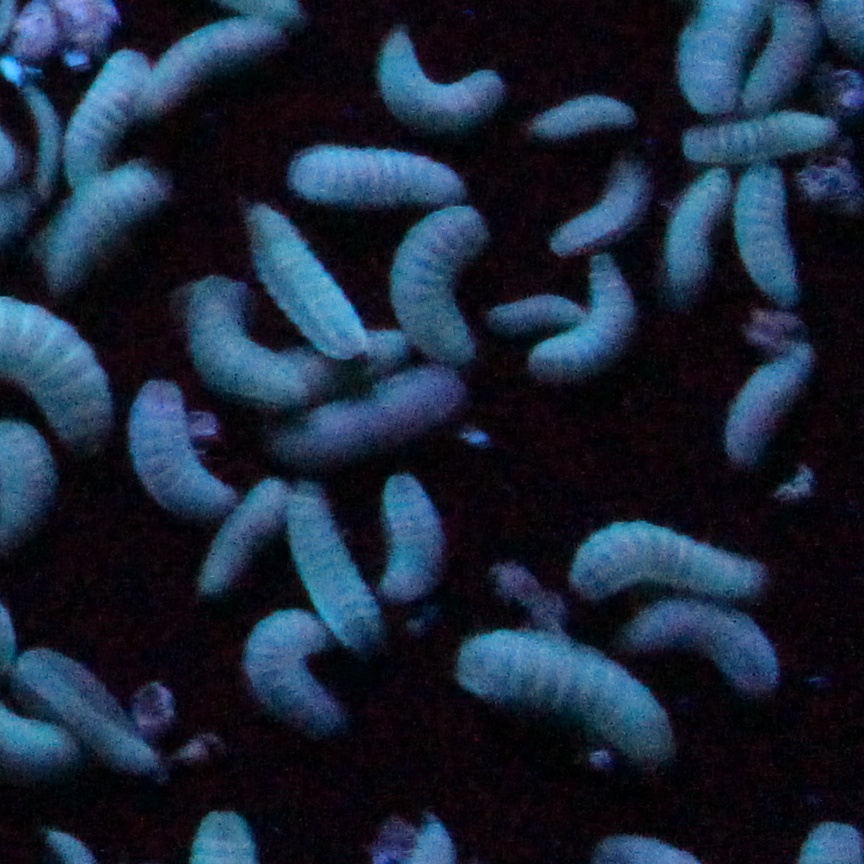larve: (452, 634, 700, 772), (0, 628, 176, 785), (270, 367, 474, 476), (240, 198, 369, 370), (607, 599, 785, 708), (174, 278, 316, 410), (278, 483, 389, 648), (369, 23, 510, 134), (38, 159, 158, 288), (232, 605, 345, 739), (396, 198, 481, 372), (550, 525, 774, 590), (127, 383, 238, 514), (141, 14, 283, 112), (723, 148, 809, 301), (527, 272, 640, 388), (58, 52, 158, 183), (710, 338, 810, 467), (285, 139, 474, 207), (192, 468, 285, 598), (547, 152, 654, 261), (365, 476, 460, 594), (667, 156, 730, 290), (680, 108, 834, 161), (529, 83, 636, 143), (483, 299, 589, 330)
